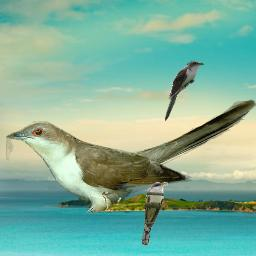Cuckoo: (6, 98, 256, 213), (163, 60, 204, 122), (142, 182, 168, 246)
